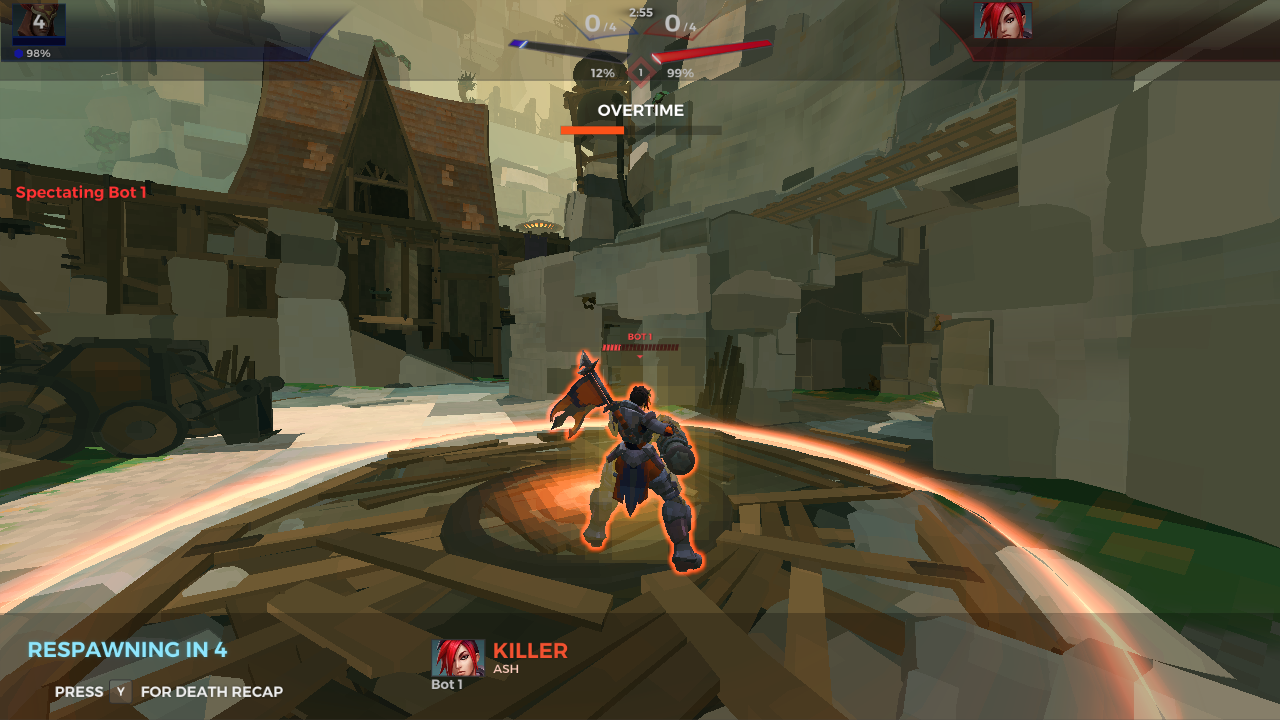model: (547, 356, 715, 582)
